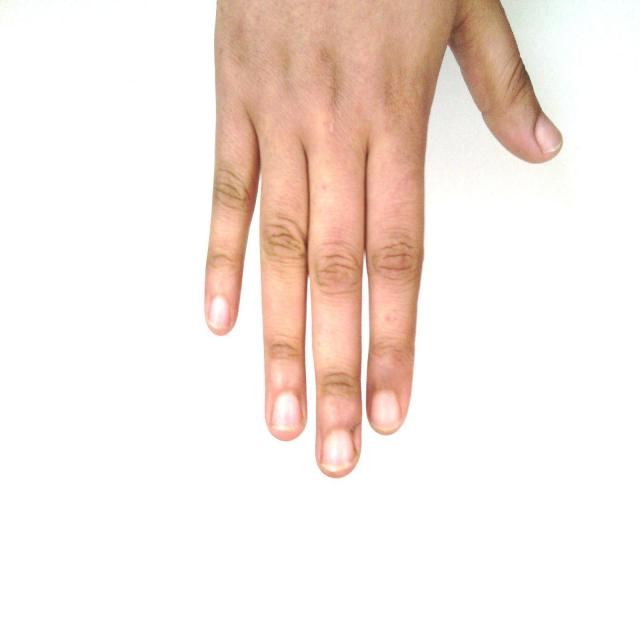others: (147, 1, 587, 498)
